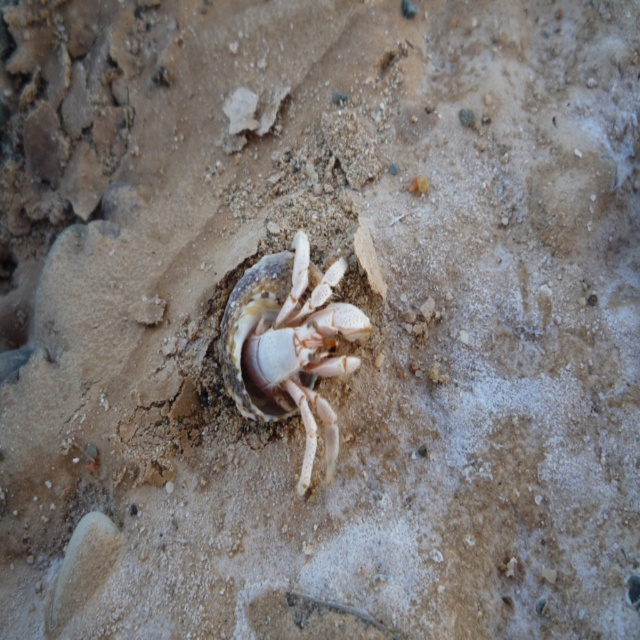Crab: (245, 229, 373, 501)
